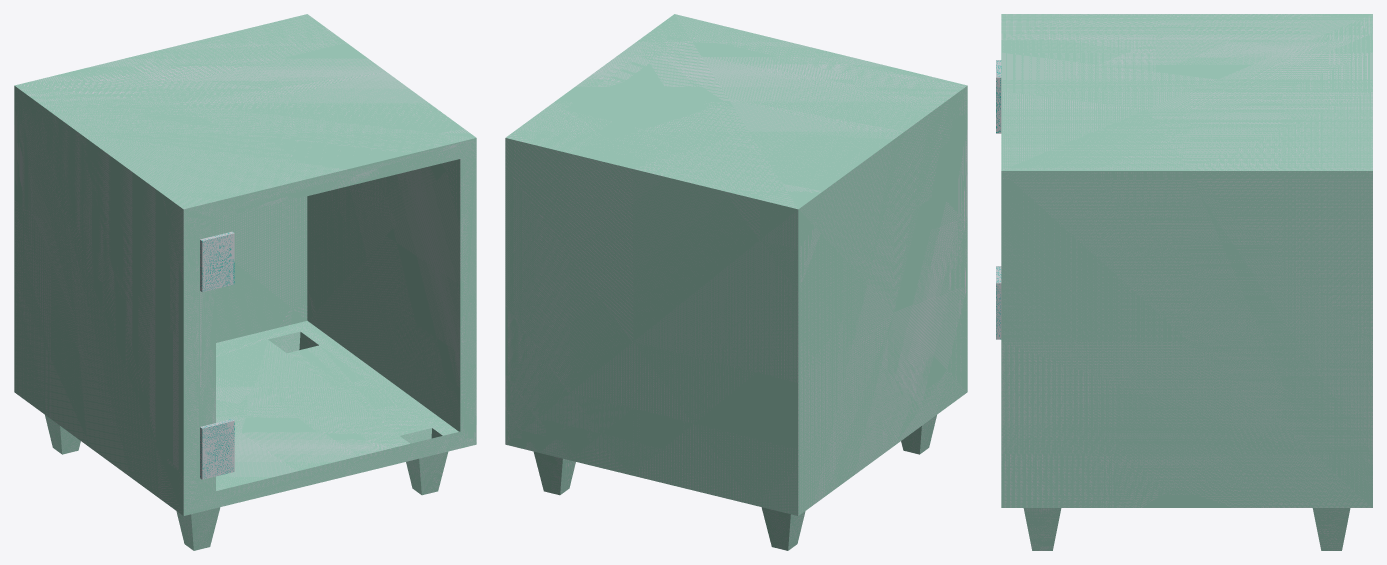
The model's file is frame.dae.
3 renders of one model, left to right at view 1: azimuth 30°, elevation 25°; view 2: azimuth 150°, elevation 25°; view 3: azimuth 270°, elevation 25°, orthographic. The views are drawn at different scales.
Parts seen in each view (by area): view 1: SketchUp.620, SketchUp.626, SketchUp.623, SketchUp.632, SketchUp.634, SketchUp.635, SketchUp.633; view 2: SketchUp.620, SketchUp.635, SketchUp.633, SketchUp.634; view 3: SketchUp.620, SketchUp.633, SketchUp.632.
Boxes of the visible parts, <box> form: SketchUp.620: <box>14,14,476,515</box>; SketchUp.626: <box>200,419,234,479</box>; SketchUp.623: <box>200,231,234,292</box>; SketchUp.632: <box>400,428,448,495</box>; SketchUp.634: <box>176,507,220,550</box>; SketchUp.635: <box>45,415,80,454</box>; SketchUp.633: <box>268,331,318,352</box>; SketchUp.620: <box>505,14,967,515</box>; SketchUp.635: <box>761,507,805,550</box>; SketchUp.633: <box>533,451,575,495</box>; SketchUp.634: <box>901,415,936,454</box>; SketchUp.620: <box>1001,14,1372,507</box>; SketchUp.633: <box>1312,508,1350,550</box>; SketchUp.632: <box>1023,508,1061,550</box>.
Size of the model in its own units: 0.9144 by 0.9271 by 1.07.
